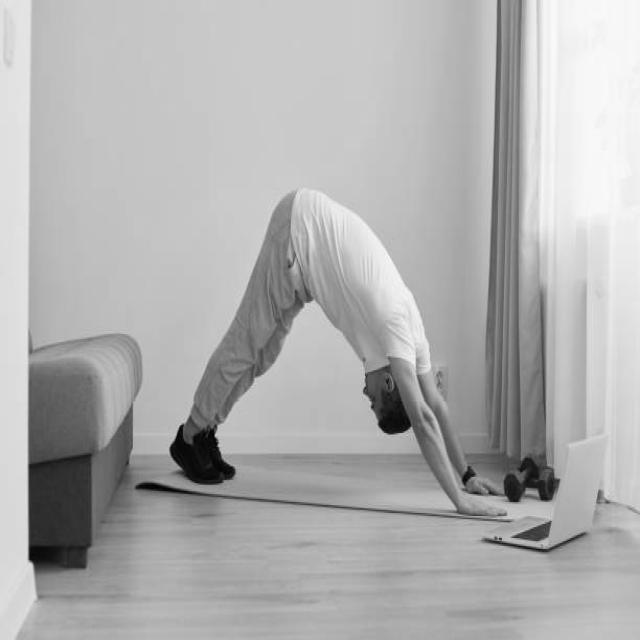Downward-Facing_Dog: (165, 180, 515, 525)
